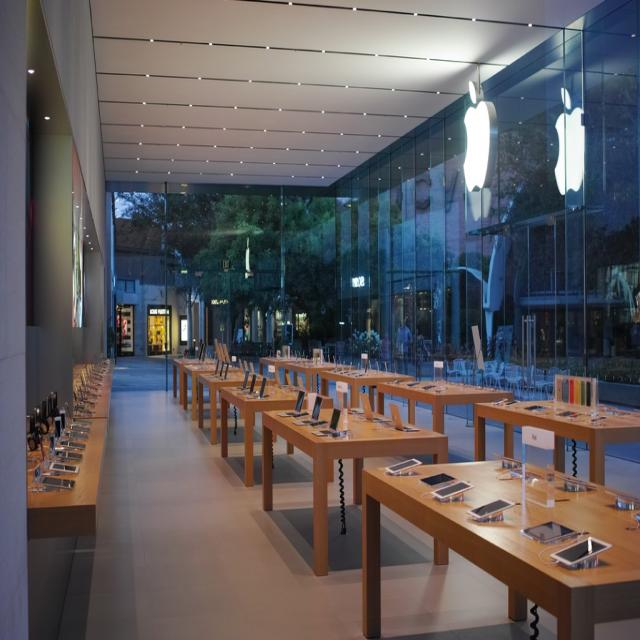desk: (335, 451, 633, 638), (265, 401, 453, 570), (218, 375, 302, 476)
person: (397, 315, 412, 365)
